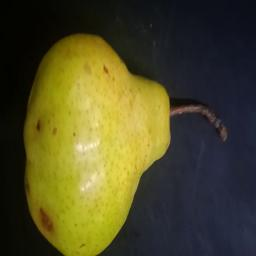Pear Semifresh: (22, 31, 237, 256)
